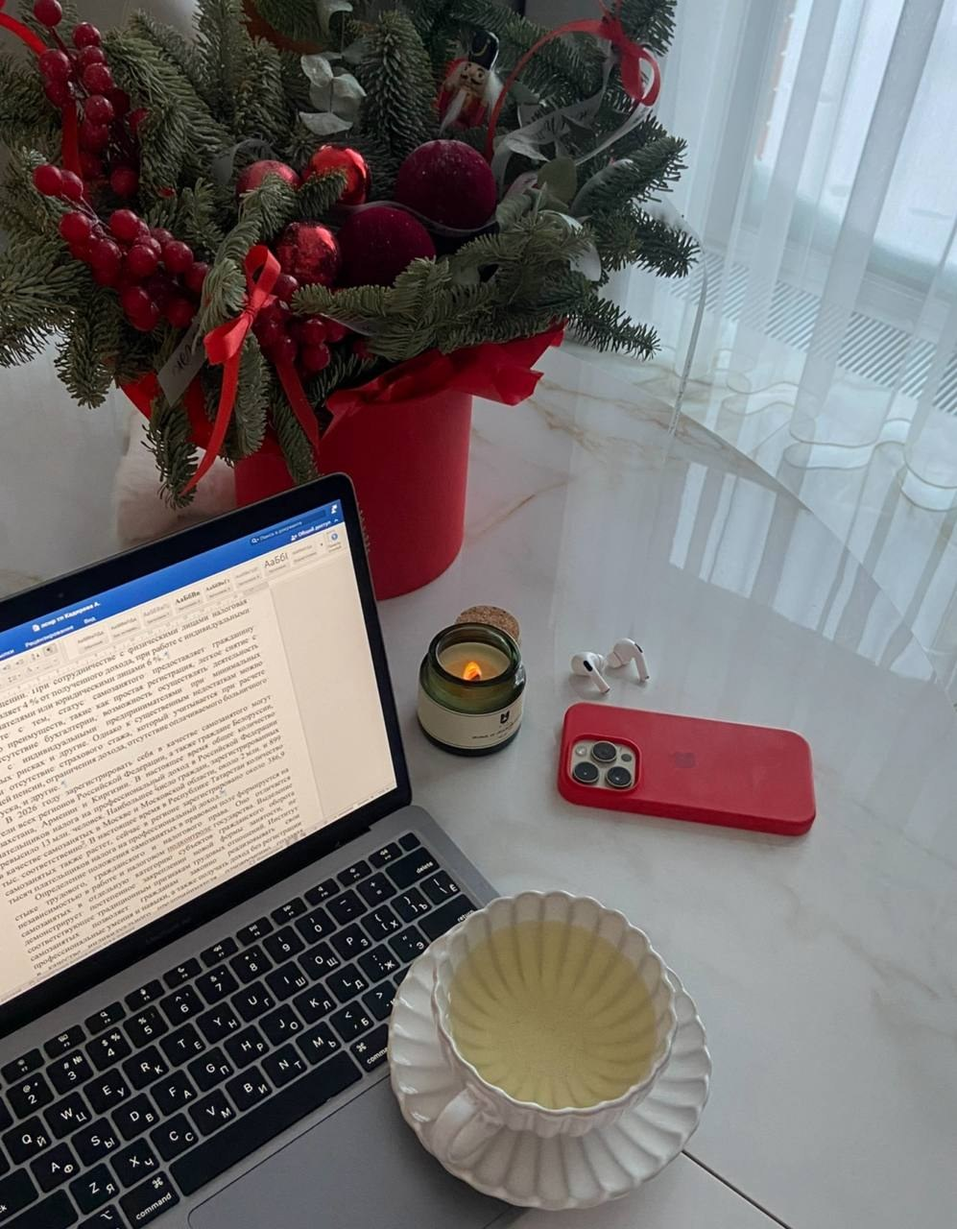cell phone: (556, 702, 817, 836)
laptop: (0, 470, 526, 1226)
